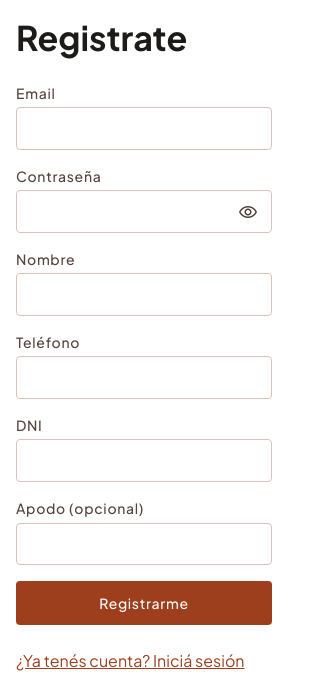
Test case: Registro — éxito › manda los cinco campos y muestra Revisá tu casilla
This screenshot has width=320, height=674.
Type "cliente@gmail.com" into the field labelled "Email" at (144, 128), box left=16, top=107, right=272, bottom=150
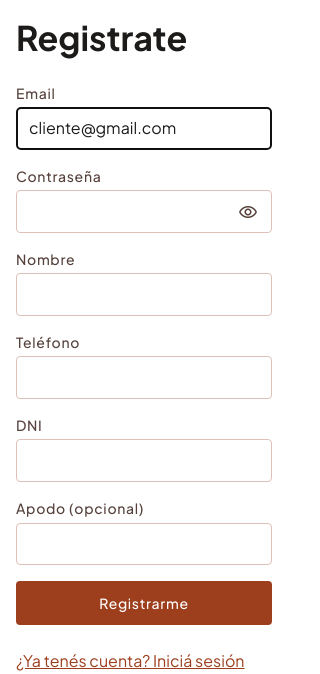
Type "secreta12" into the password field labelled "Contraseña" at (144, 212), box left=16, top=190, right=272, bottom=233
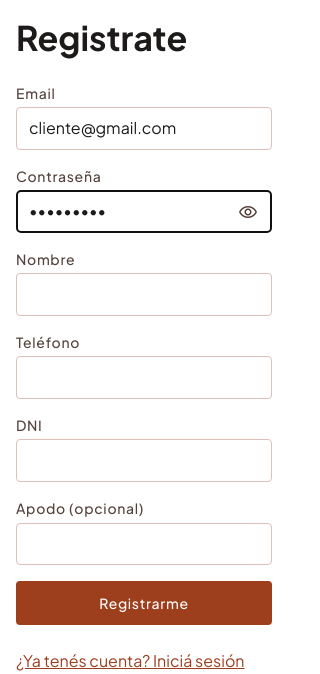
Type "Cliente Prueba" into the field labelled "Nombre" at (144, 295), box left=16, top=273, right=272, bottom=316
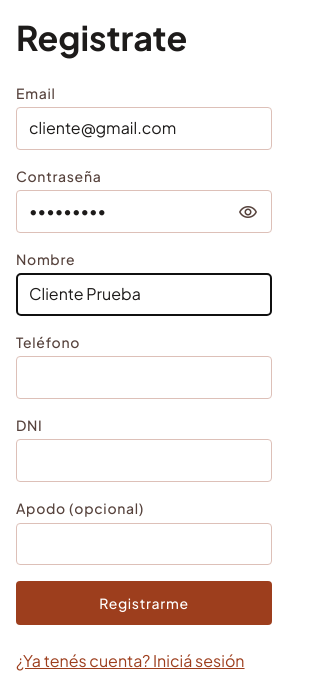
Type "1122334455" into the field labelled "Teléfono" at (144, 378), box left=16, top=356, right=272, bottom=399
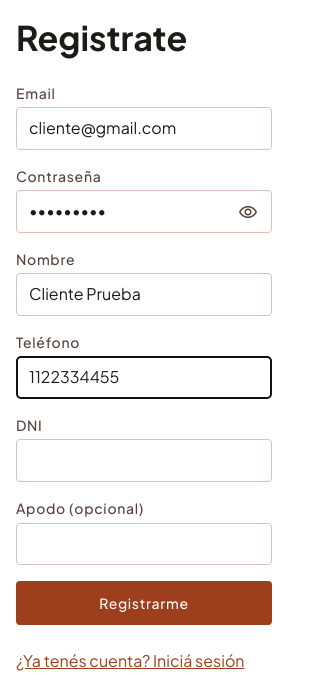
Type "12345678" into the field labelled "DNI" at (144, 461), box left=16, top=440, right=272, bottom=482
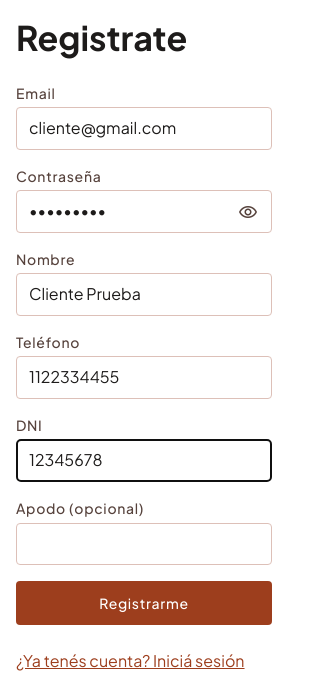
Click the button "Registrarme" at (144, 603), box left=16, top=581, right=272, bottom=625
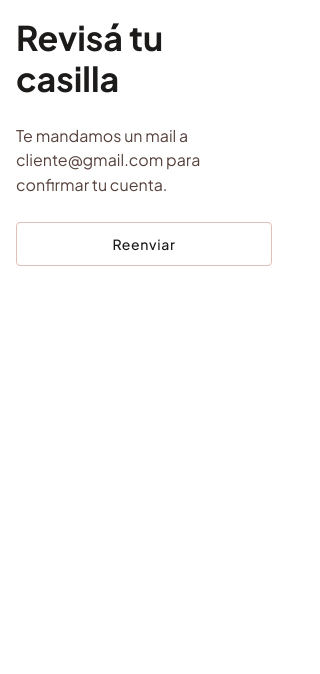
Check: the heading "Revisá tu casilla" is shown, box left=16, top=16, right=163, bottom=100
